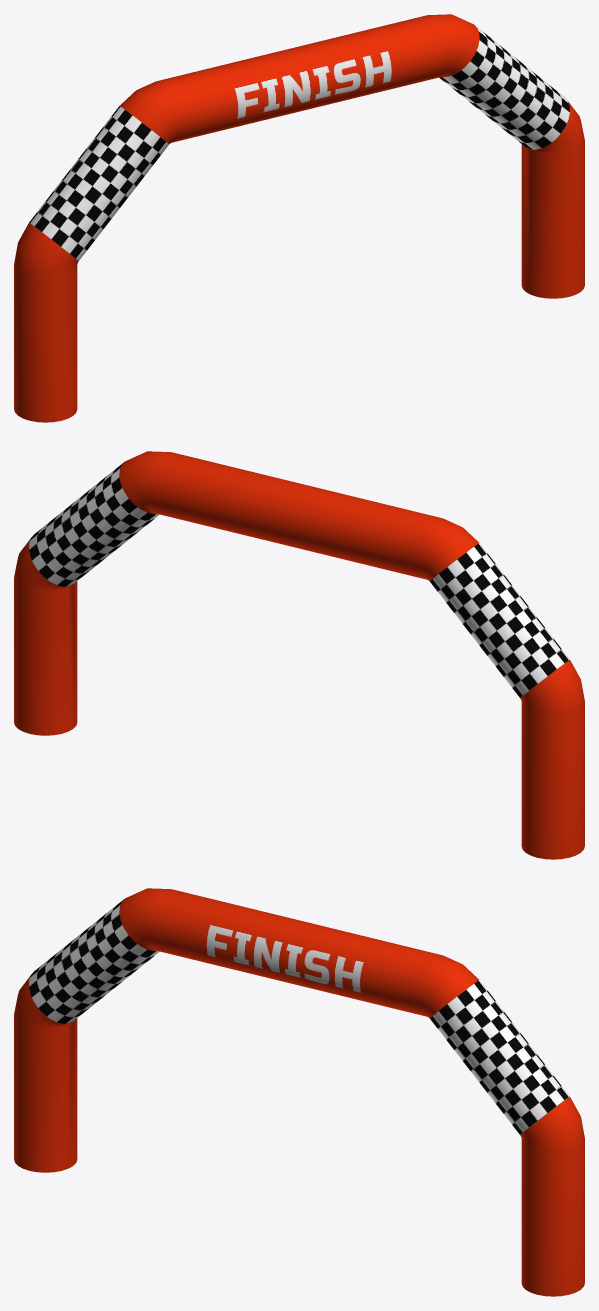
The model's file is Arch-Finish_Red.fbx.
3 views of the same model, one above another, from view 1: azimuth 30°, elevation 25°; view 2: azimuth 150°, elevation 25°; view 3: azimuth 330°, elevation 25° (orthographic).
Visible parts, largest first — view 1: Arch-Finish_Red; view 2: Arch-Finish_Red; view 3: Arch-Finish_Red.
Boxes of the visible parts, x1=… form: Arch-Finish_Red: x1=14, y1=14, x2=584, y2=422; Arch-Finish_Red: x1=14, y1=451, x2=584, y2=859; Arch-Finish_Red: x1=14, y1=888, x2=584, y2=1296.
Size of the model in its own units: 904 by 456 by 88.29.
